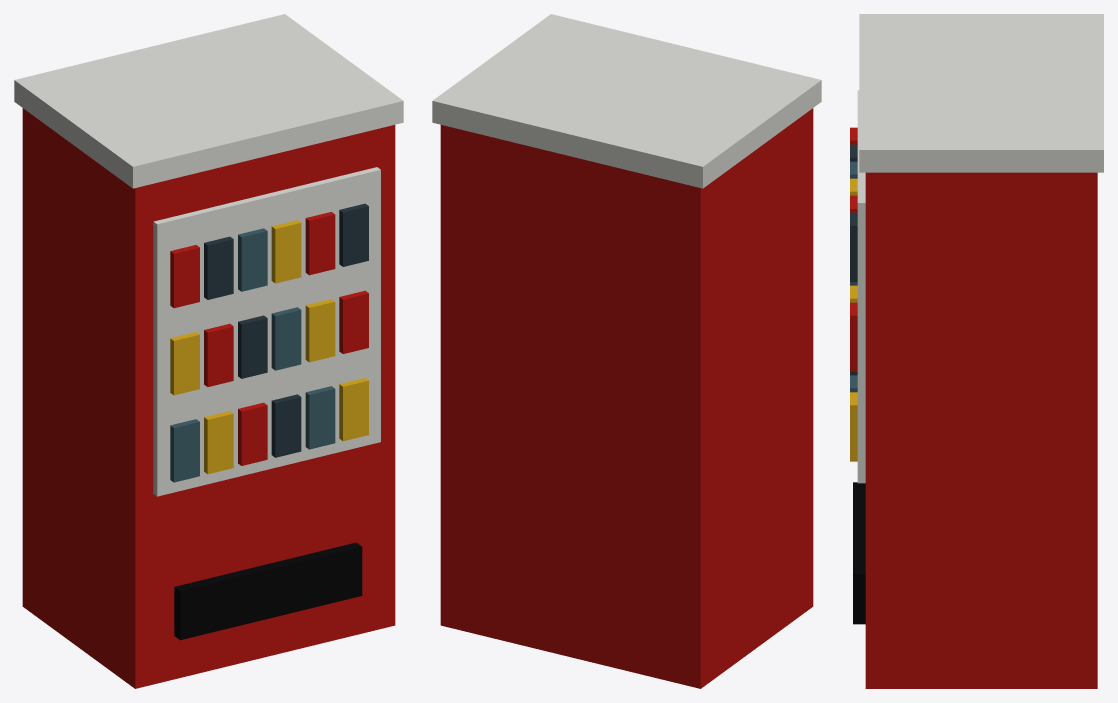
Rendered from VendingMachine.fbx.
3 views of the same model, side by side, from view 1: azimuth 30°, elevation 25°; view 2: azimuth 150°, elevation 25°; view 3: azimuth 270°, elevation 25° (orthographic). The views are drawn at different scales.
Visible parts, largest first — view 1: VendingMachine; view 2: VendingMachine; view 3: VendingMachine.
Part boxes in pixels (bbox=[...]): VendingMachine: bbox=[14, 14, 403, 688]; VendingMachine: bbox=[432, 14, 821, 688]; VendingMachine: bbox=[850, 14, 1103, 688].
Bounding box in the file's own units: 1.04 × 1.93 × 0.82.
